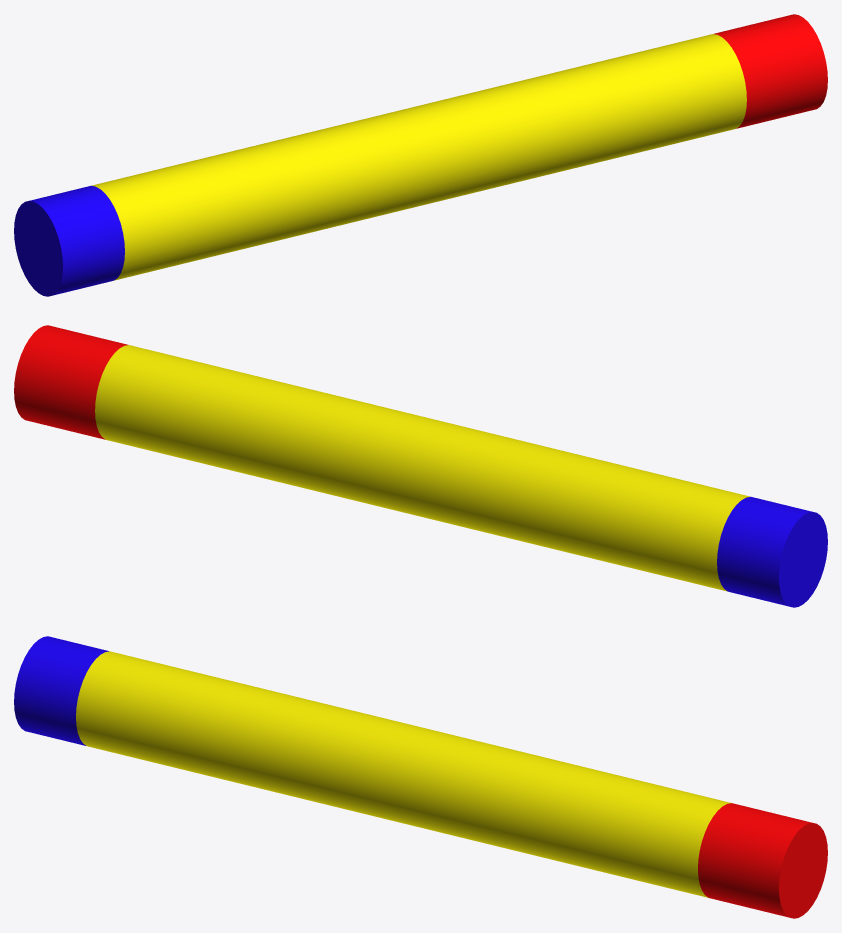
Rendered from rod3.fbx.
3 renders of one model, top to bottom at view 1: azimuth 30°, elevation 25°; view 2: azimuth 150°, elevation 25°; view 3: azimuth 330°, elevation 25°, orthographic.
Visible parts, largest first — view 1: Cylinder; view 2: Cylinder; view 3: Cylinder.
Boxes of the visible parts, <box> form: Cylinder: <box>14,14,827,296</box>; Cylinder: <box>14,325,827,607</box>; Cylinder: <box>14,636,827,918</box>.
Size of the model in its own units: 18 by 2 by 2.
